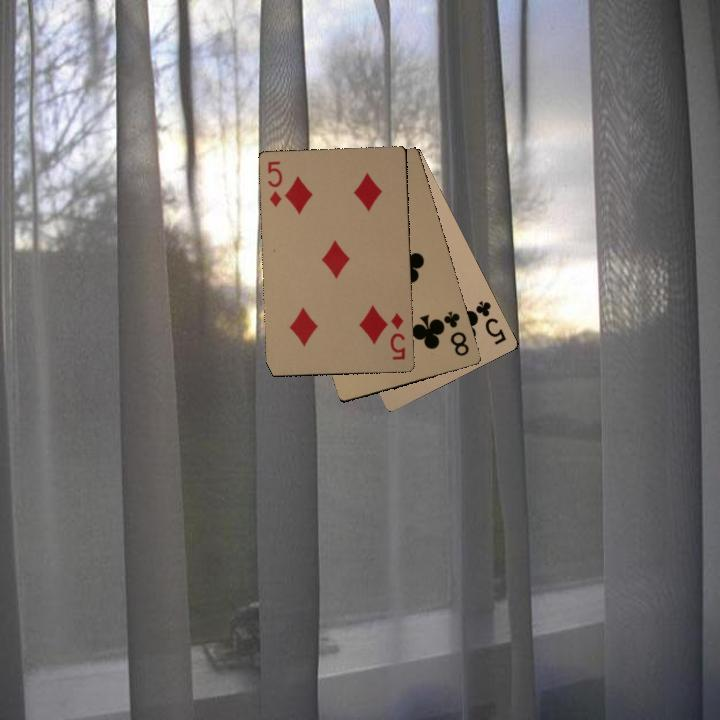5c: (469, 296, 509, 347)
5d: (386, 309, 408, 362), (264, 157, 285, 210)
8c: (438, 307, 472, 359)
